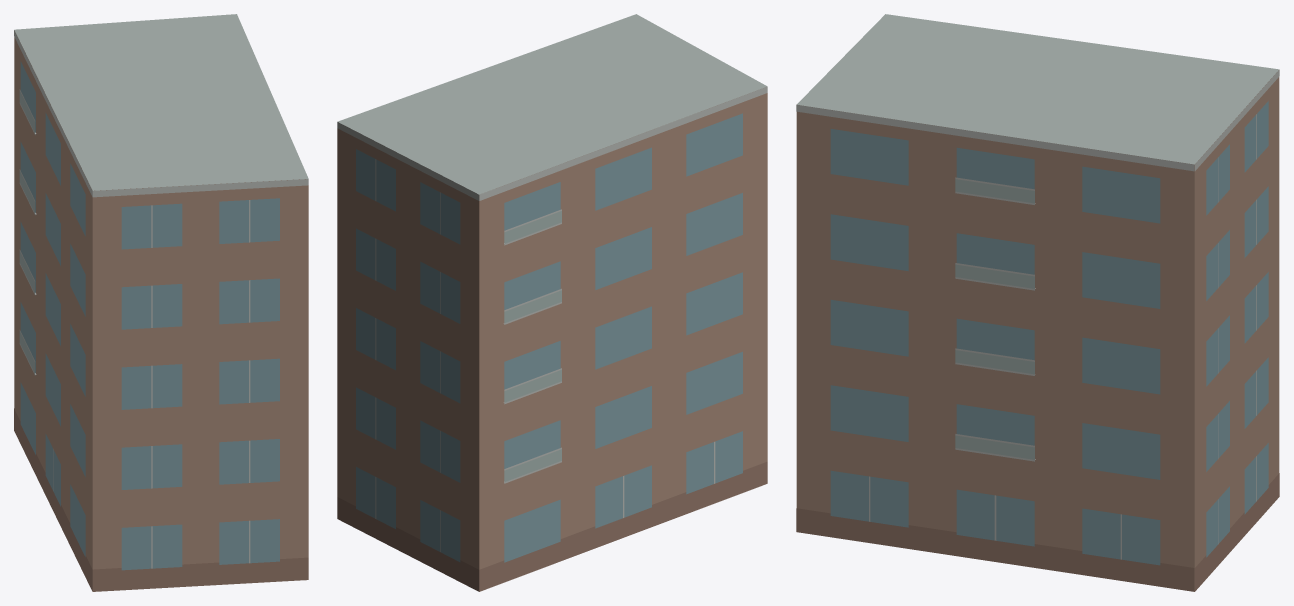
Rendered from survey-upis-32849541.glb.
3 views of the same model, side by side, from view 1: azimuth 30°, elevation 25°; view 2: azimuth 150°, elevation 25°; view 3: azimuth 270°, elevation 25° (orthographic). The views are drawn at different scales.
Parts seen in each view (by area): view 1: survey-upis-32849541.tmp; view 2: survey-upis-32849541.tmp; view 3: survey-upis-32849541.tmp.
Boxes of the visible parts, x1,y1,x2,y2 form: survey-upis-32849541.tmp: [14, 14, 308, 591]; survey-upis-32849541.tmp: [337, 14, 767, 591]; survey-upis-32849541.tmp: [796, 14, 1279, 591].
Bounding box in the file's own units: 11.34 × 15 × 15.37.
